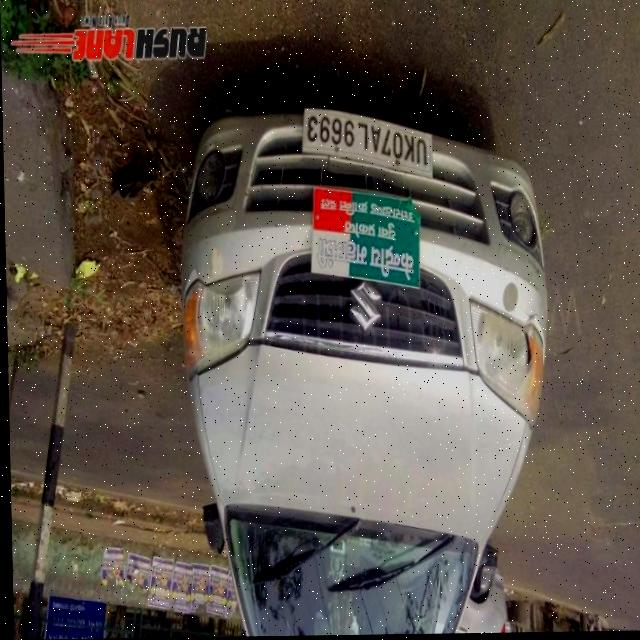plate: (300, 107, 436, 182)
